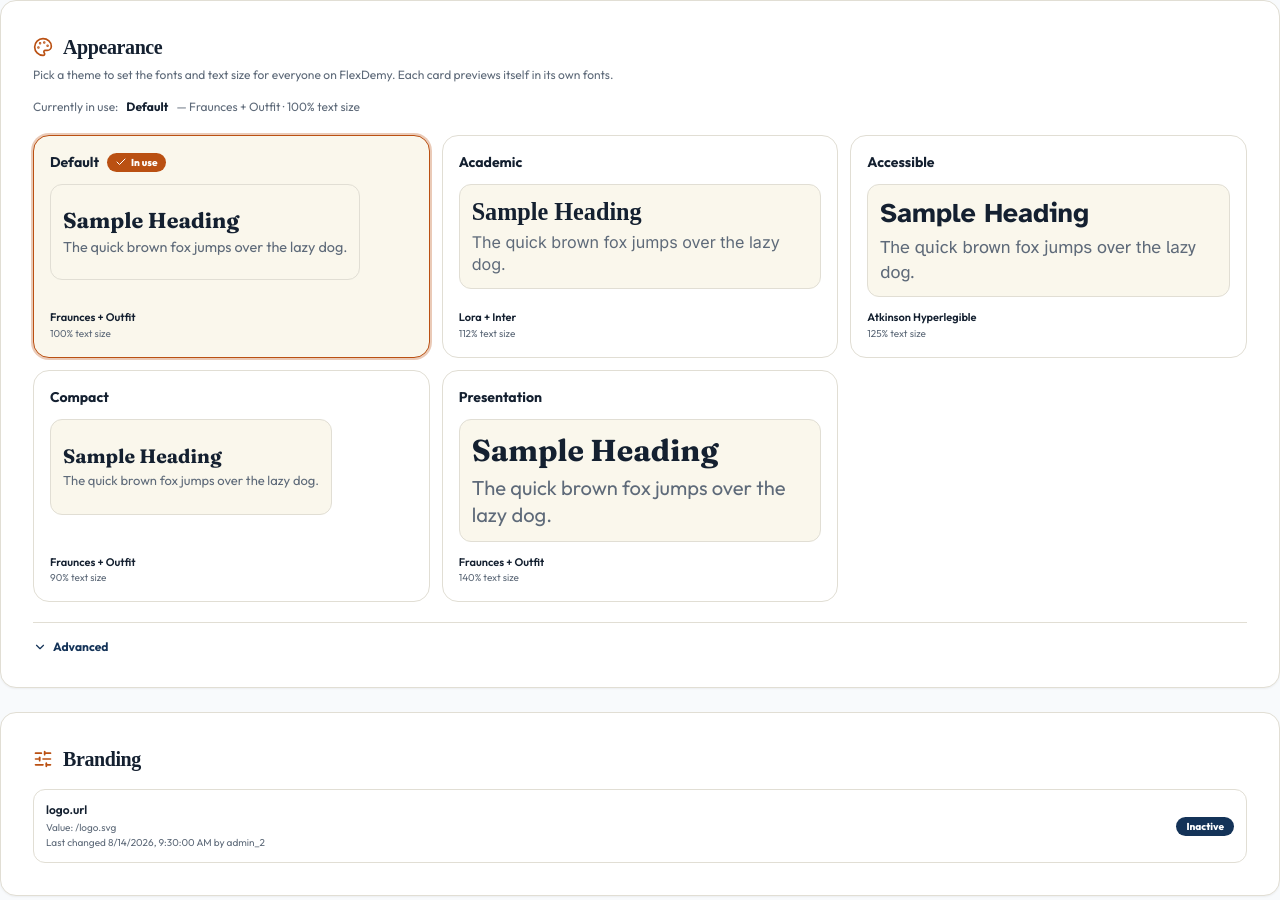
Test: Settings › opens the composer already reflecting what is live, with nothing to save
Click the button "Advanced" at (71, 647), box [33,639,108,655]
(page scrolled)
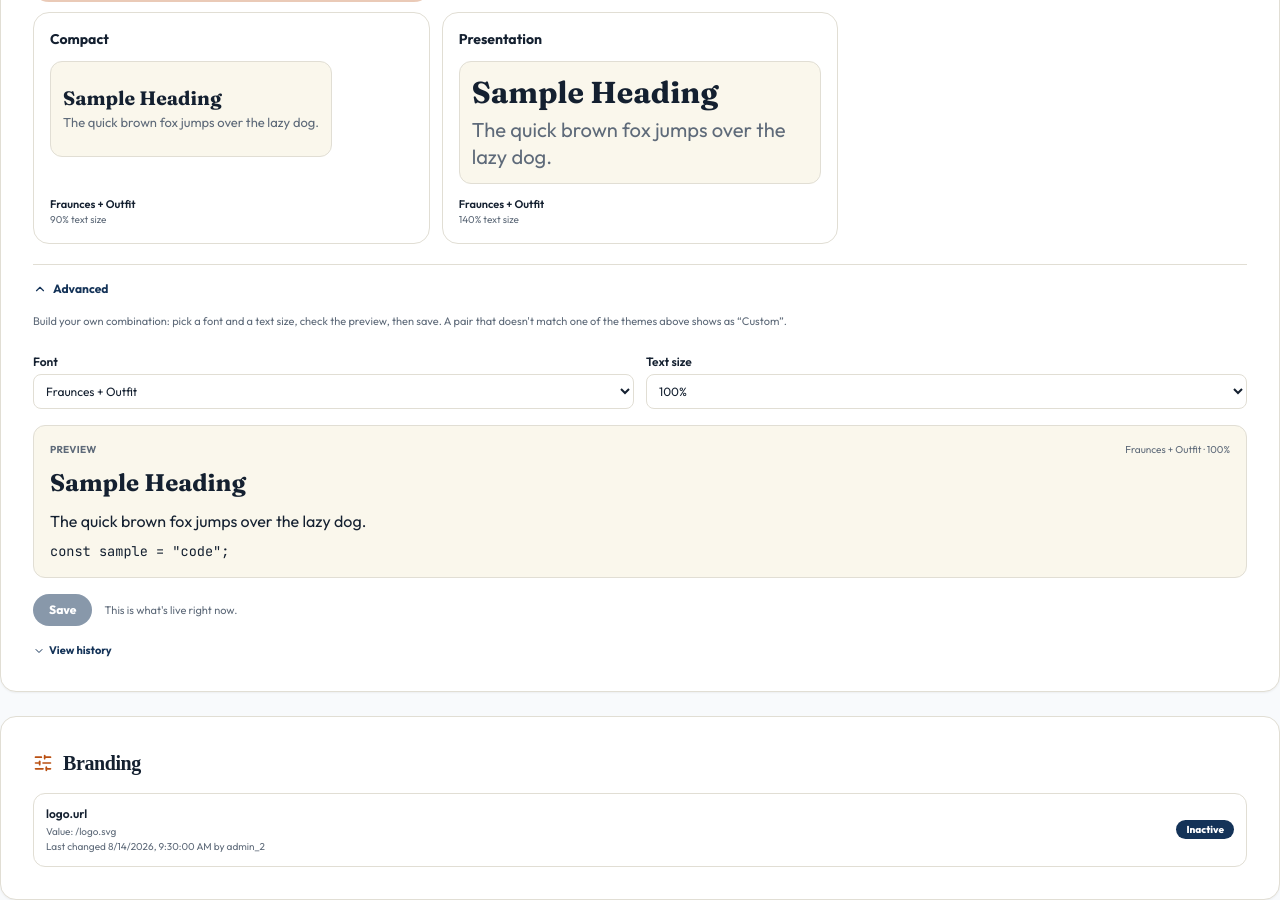
Now the dropdown labelled "Font" shows "Fraunces + Outfit", box [33,374,634,409]
Now the dropdown labelled "Text size" shows "100%", box [646,374,1247,409]
Now the button "Save" is disabled, box [33,594,92,626]
